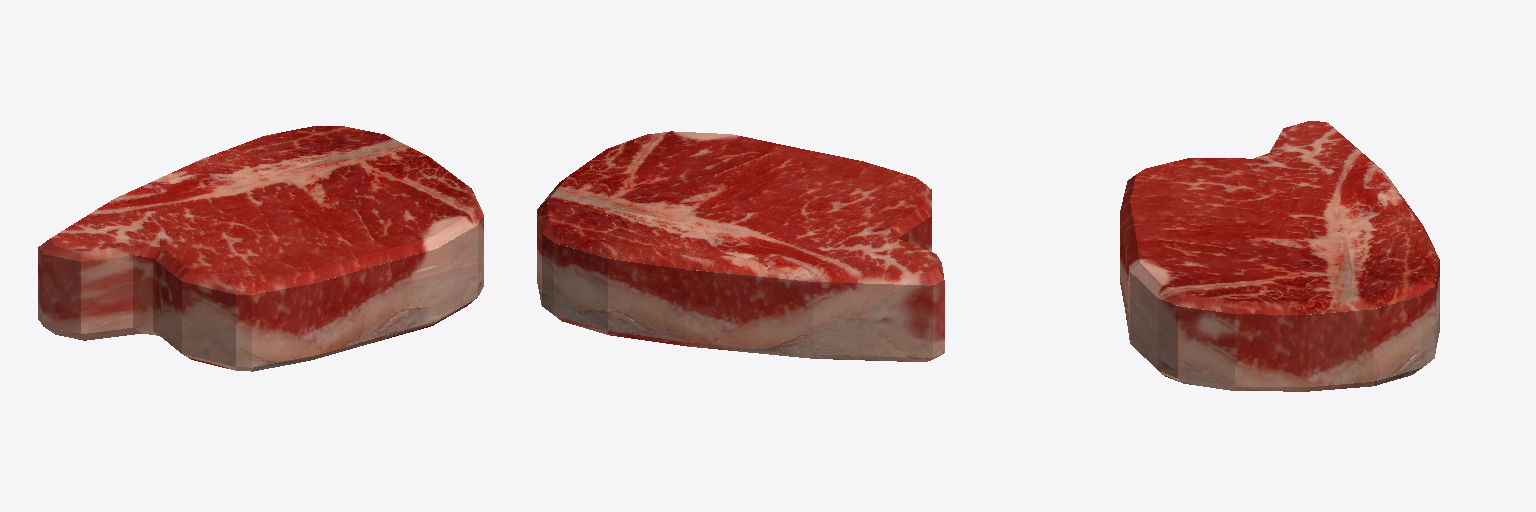
The picture shows the model from 3 angles: view 1: azimuth 30°, elevation 25°; view 2: azimuth 150°, elevation 25°; view 3: azimuth 270°, elevation 25°; orthographic projection.
Visible parts, largest first — view 1: Plane; view 2: Plane; view 3: Plane.
Part boxes in pixels (x1,y1,x2,y2): Plane: (38,126,483,371); Plane: (537,131,944,361); Plane: (1120,121,1439,391).
Bounding box in the file's own units: 3.6 × 0.7915 × 2.56.
1 materials, 1 textured.